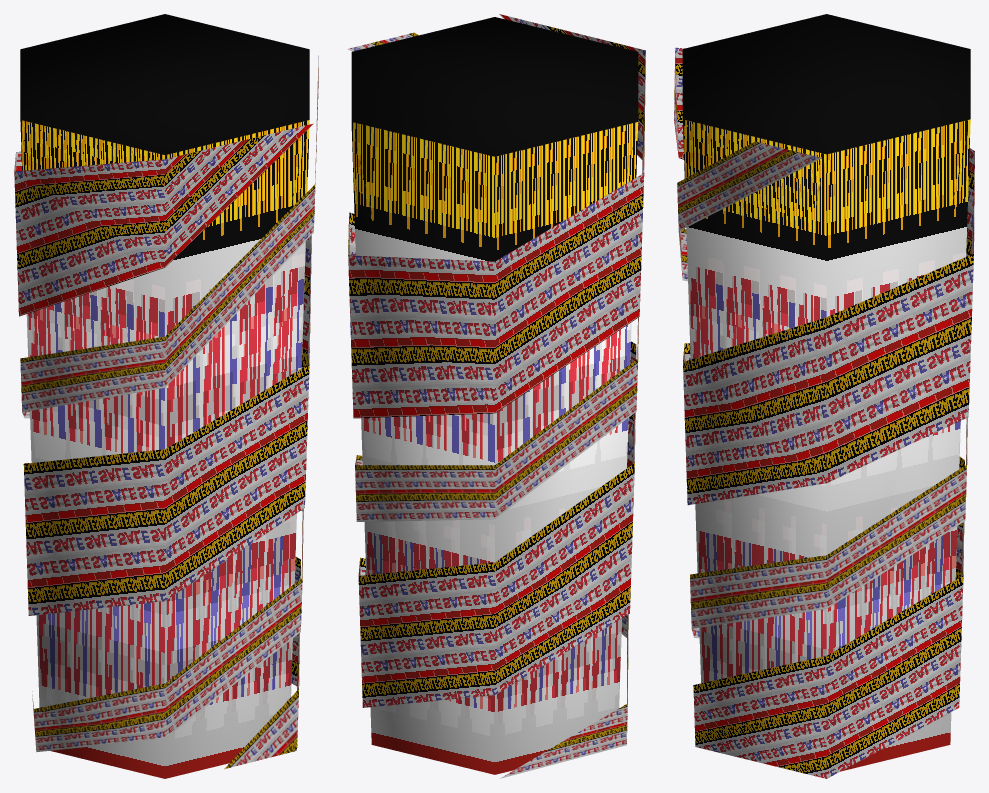
The picture shows the model from 3 angles, left to right: view 1: azimuth 30°, elevation 25°; view 2: azimuth 150°, elevation 25°; view 3: azimuth 270°, elevation 25°; orthographic projection.
Visible parts, largest first — view 1: 3764kg_sh0_11; view 2: 3764kg_sh0_11; view 3: 3764kg_sh0_11.
Boxes of the visible parts, x1,y1,x2,y2 form: 3764kg_sh0_11: [14, 14, 318, 778]; 3764kg_sh0_11: [347, 14, 645, 778]; 3764kg_sh0_11: [674, 14, 974, 778].
Size of the model in its own units: 0.999 by 2.01 by 0.8665.
Materials: 1 (1 with a texture image).
